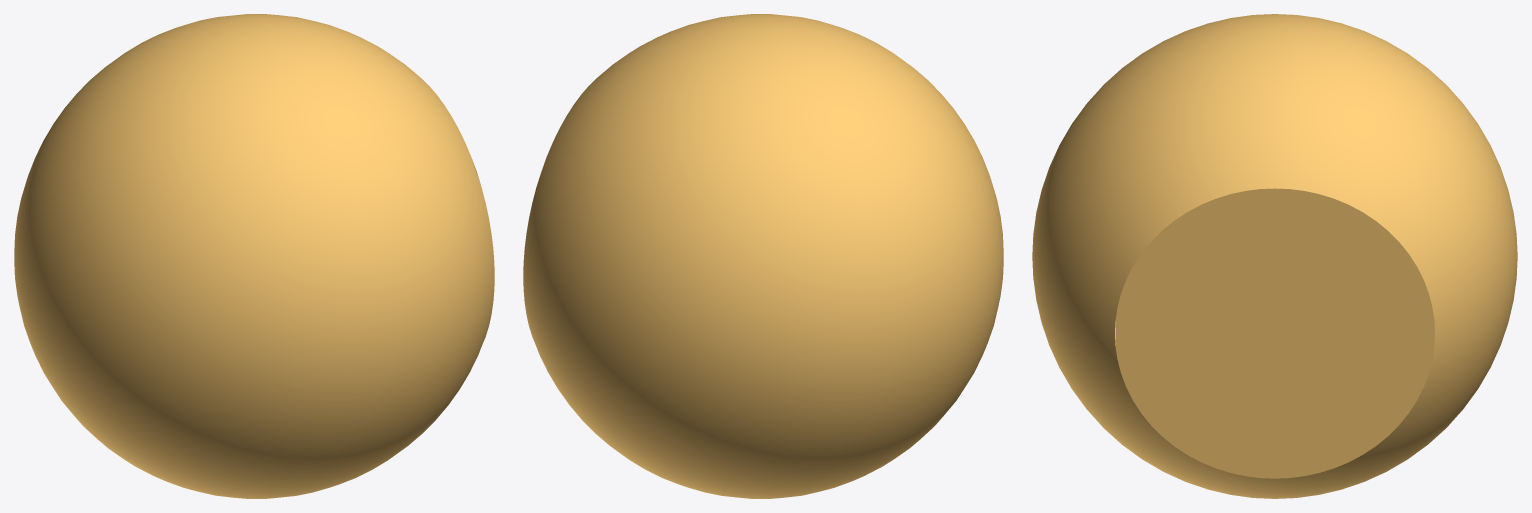
Rendered from qiujieduanti.FBX.
3 views of the same model, side by side, from view 1: azimuth 30°, elevation 25°; view 2: azimuth 150°, elevation 25°; view 3: azimuth 270°, elevation 25° (orthographic).
Visible parts, largest first — view 1: TRM_SRF (×2); view 2: TRM_SRF (×2); view 3: TRM_SRF (×3).
Part boxes in pixels (x1,y1,x2,y2): TRM_SRF (×2): (14, 14, 494, 498); TRM_SRF (×2): (523, 14, 1003, 498); TRM_SRF (×3): (1032, 14, 1517, 498).
Bounding box in the file's own units: 34.48 × 39.37 × 39.37.
